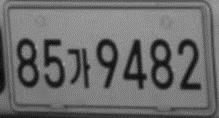2: (177, 38, 202, 90)
4: (123, 38, 147, 89)
5: (43, 38, 65, 88)
8: (149, 39, 175, 89), (15, 37, 39, 88)
9: (95, 37, 119, 89)
가: (67, 47, 91, 89)
